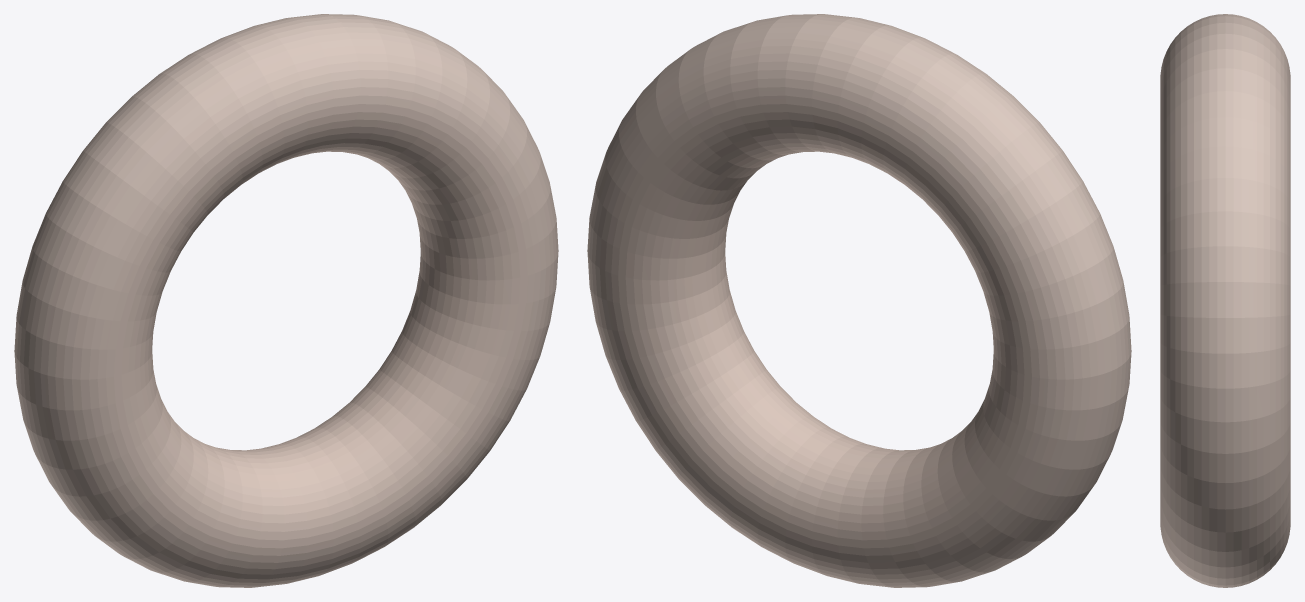
3 renders of one model, left to right at view 1: azimuth 30°, elevation 25°; view 2: azimuth 150°, elevation 25°; view 3: azimuth 270°, elevation 25°, orthographic. The views are drawn at different scales.
Parts seen in each view (by area): view 1: world; view 2: world; view 3: world.
Part boxes in pixels (box(x1,y1,x2,y2)): world: box(14, 14, 558, 587); world: box(587, 14, 1131, 587); world: box(1160, 14, 1290, 587).
Bounding box in the file's own units: 27.6 × 27.55 × 6.25.
